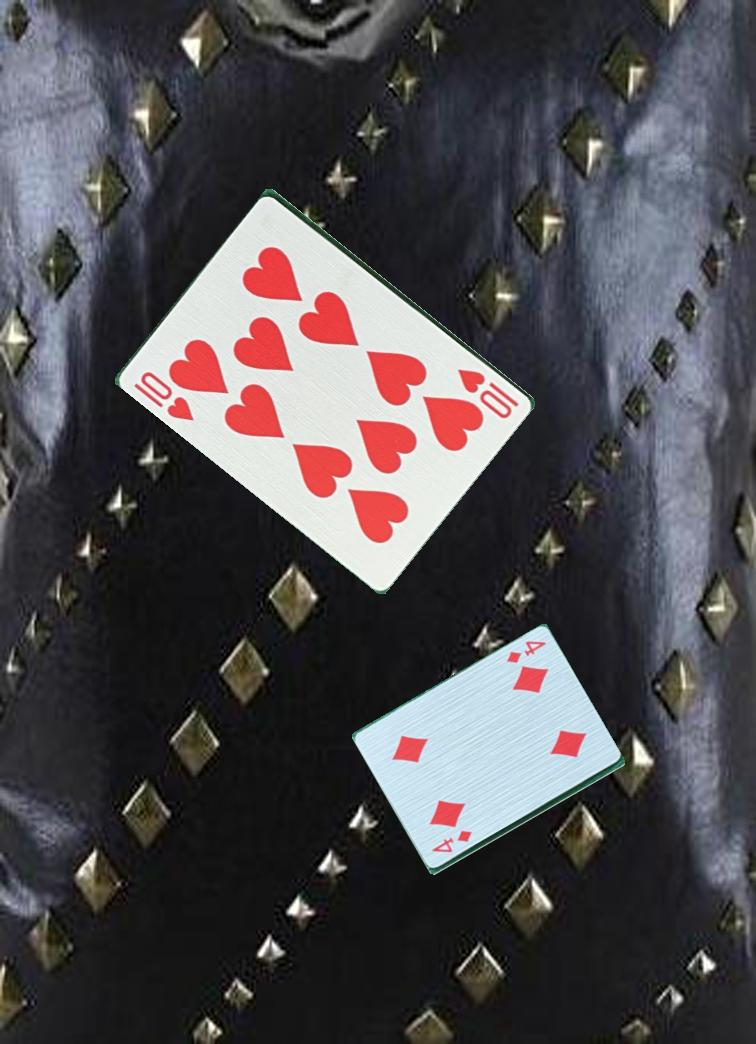4d: (503, 637, 549, 669), (428, 827, 475, 856)
th: (454, 364, 523, 422), (131, 367, 199, 425)
